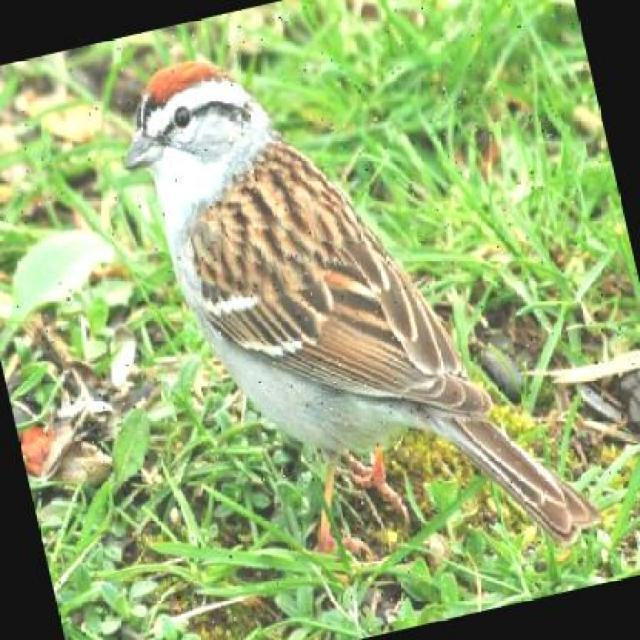Bird: (122, 55, 607, 552)
